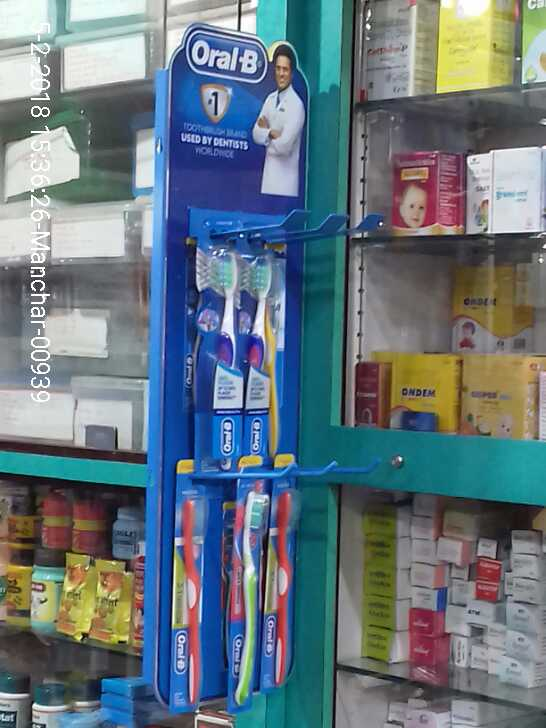oralb: (196, 222, 246, 464), (248, 222, 283, 465), (174, 460, 208, 710), (233, 472, 264, 704), (264, 470, 294, 686)
